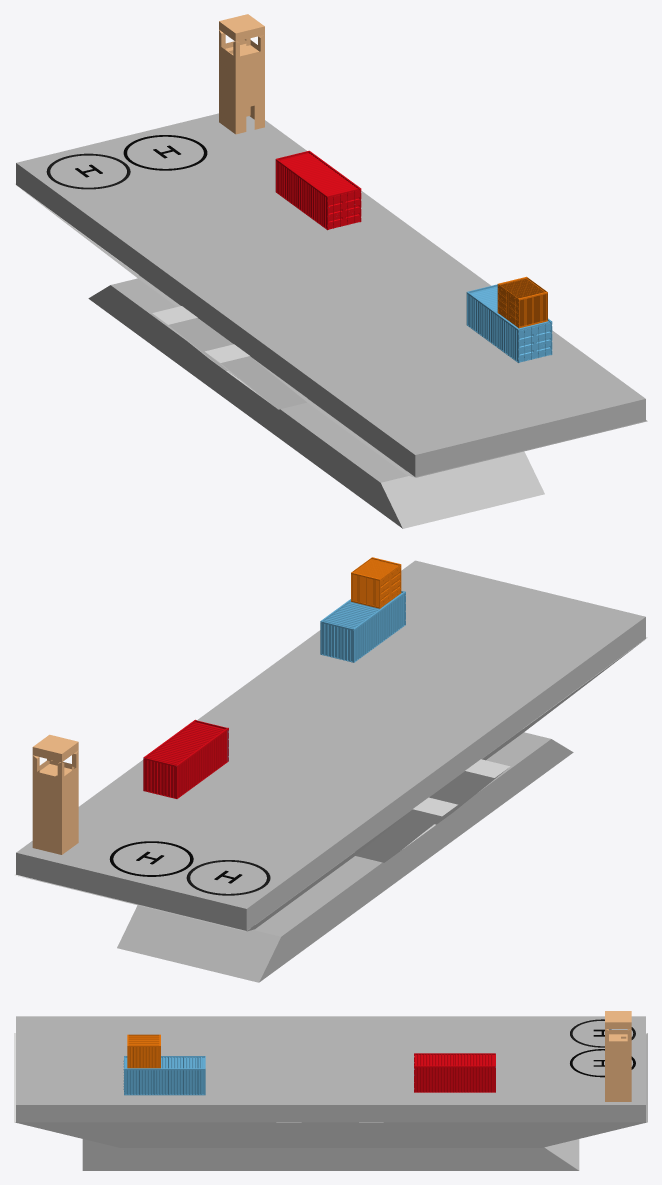
File: SeaBase 1.fbx
3 views of the same model, one above another, from view 1: azimuth 30°, elevation 25°; view 2: azimuth 150°, elevation 25°; view 3: azimuth 270°, elevation 25° (orthographic). The views are drawn at different scales.
Parts seen in each view (by area): view 1: Ship_surface, Ship_floor, Ship_Main, Tower, Container, Container.002, Container.003; view 2: Ship_surface, Ship_floor, Ship_Main, Tower, Container, Container.002, Container.003; view 3: Ship_surface, Ship_Main, Ship_floor, Container, Container.002, Tower, Container.003.
Part boxes in pixels (x1=…): Ship_surface: x1=16, y1=113, x2=645, y2=476; Ship_floor: x1=88, y1=278, x2=544, y2=528; Ship_Main: x1=14, y1=183, x2=647, y2=477; Tower: x1=219, y1=14, x2=264, y2=134; Container: x1=275, y1=150, x2=361, y2=230; Container.002: x1=466, y1=284, x2=552, y2=362; Container.003: x1=497, y1=276, x2=547, y2=328; Ship_surface: x1=16, y1=560, x2=645, y2=930; Ship_floor: x1=117, y1=732, x2=573, y2=982; Ship_Main: x1=14, y1=637, x2=647, y2=931; Tower: x1=32, y1=734, x2=78, y2=854; Container: x1=143, y1=719, x2=228, y2=798; Container.002: x1=320, y1=591, x2=405, y2=662; Container.003: x1=351, y1=557, x2=401, y2=608; Ship_surface: x1=16, y1=1016, x2=645, y2=1122; Ship_Main: x1=14, y1=1033, x2=647, y2=1147; Ship_floor: x1=82, y1=1139, x2=579, y2=1170; Container: x1=414, y1=1053, x2=495, y2=1092; Container.002: x1=123, y1=1056, x2=205, y2=1095; Tower: x1=605, y1=1011, x2=631, y2=1101; Container.003: x1=127, y1=1034, x2=160, y2=1068.
Size of the model in its own units: 900 by 702 by 2400.
